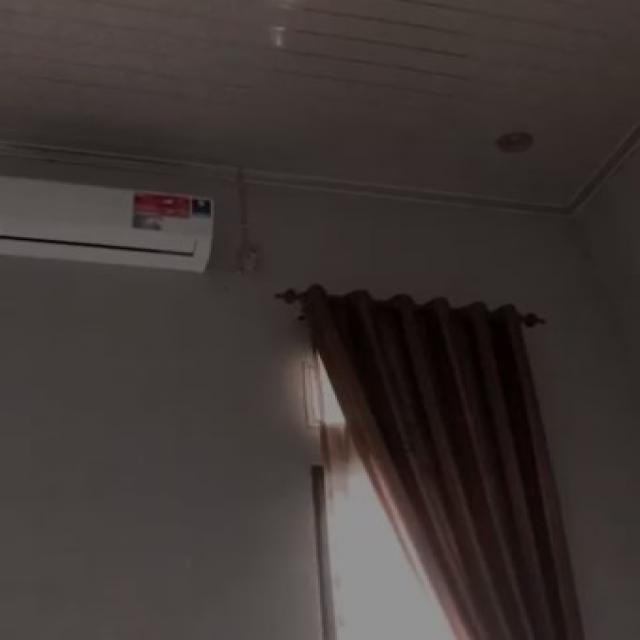AC: (0, 173, 214, 273)
